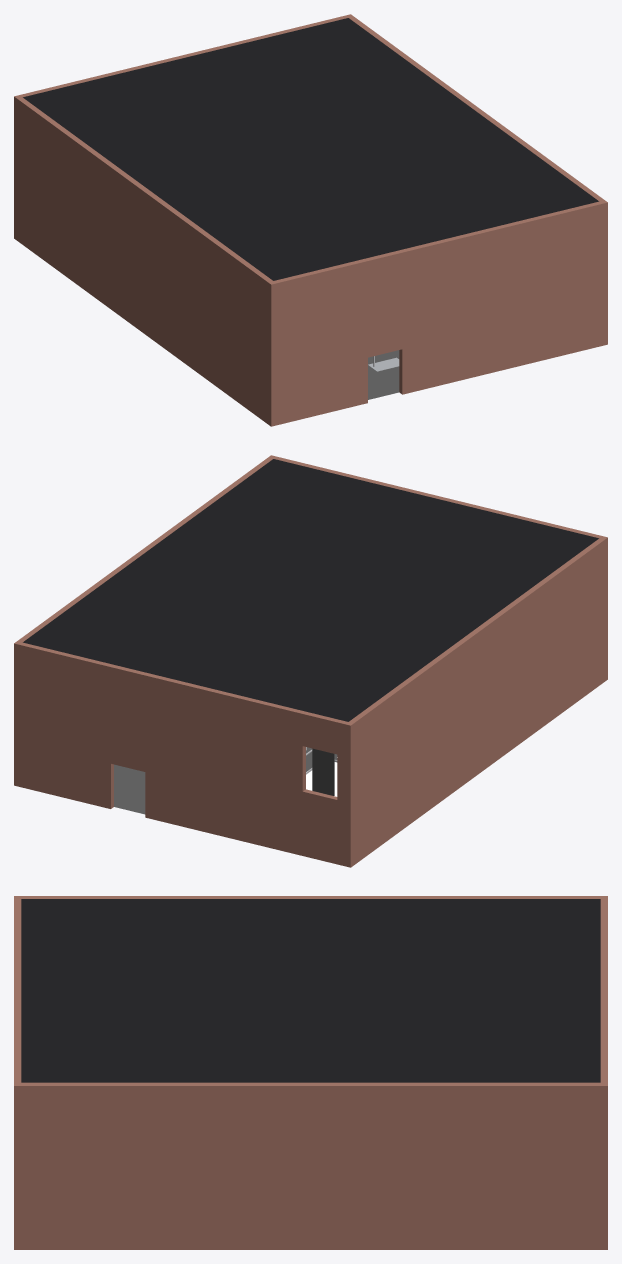
Rendered from shop.glb.
3 renders of one model, top to bottom at view 1: azimuth 30°, elevation 25°; view 2: azimuth 150°, elevation 25°; view 3: azimuth 270°, elevation 25°, orthographic. The views are drawn at different scales.
Parts seen in each view (by area): view 1: shop; view 2: shop; view 3: shop.
Part boxes in pixels (x1=…): shop: x1=14, y1=14, x2=607, y2=426; shop: x1=14, y1=455, x2=607, y2=867; shop: x1=14, y1=896, x2=607, y2=1249.
Bounding box in the file's own units: 18.6 × 7.5 × 24.6.
